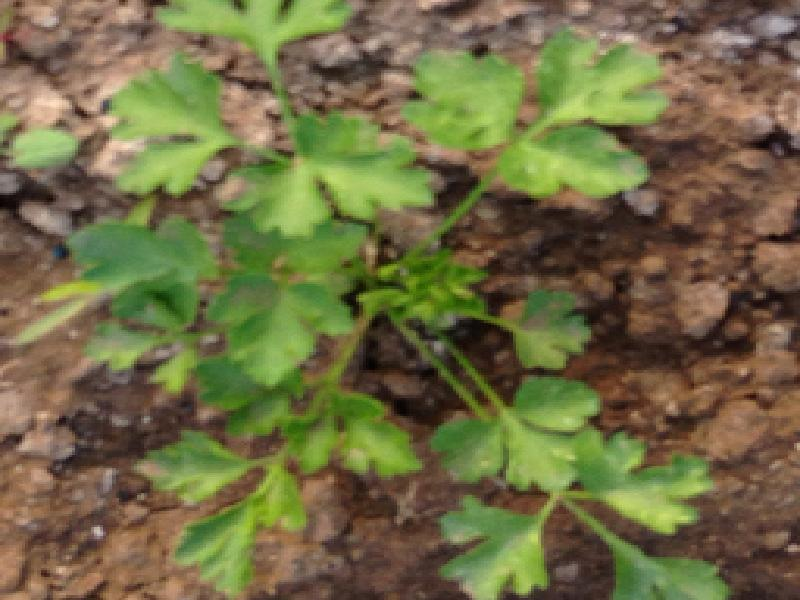radish: (63, 0, 730, 600)
